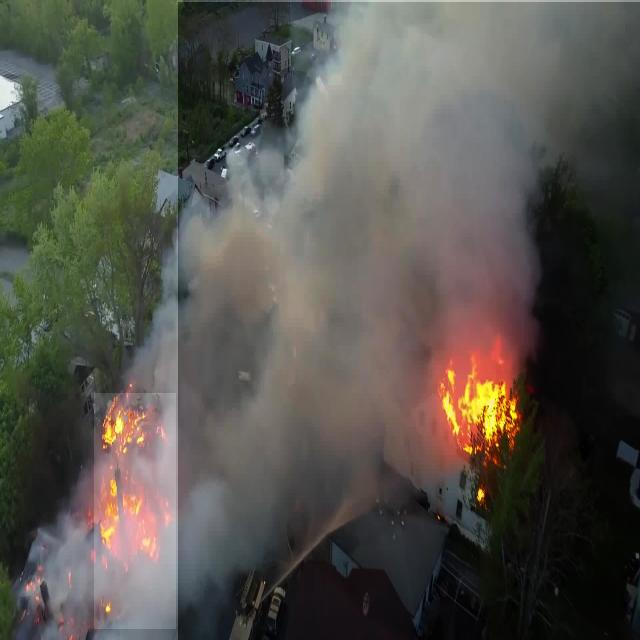Fire: (94, 393, 176, 629), (440, 346, 530, 512)
Smoke: (178, 2, 640, 640)
